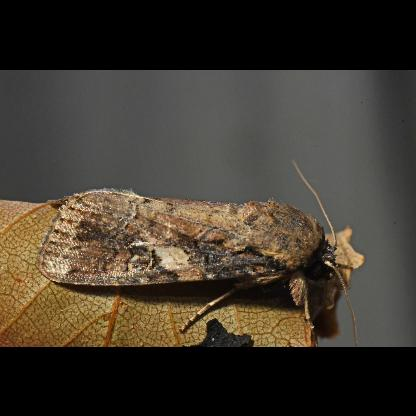Fall Armyworm Moth: (32, 156, 360, 335)
